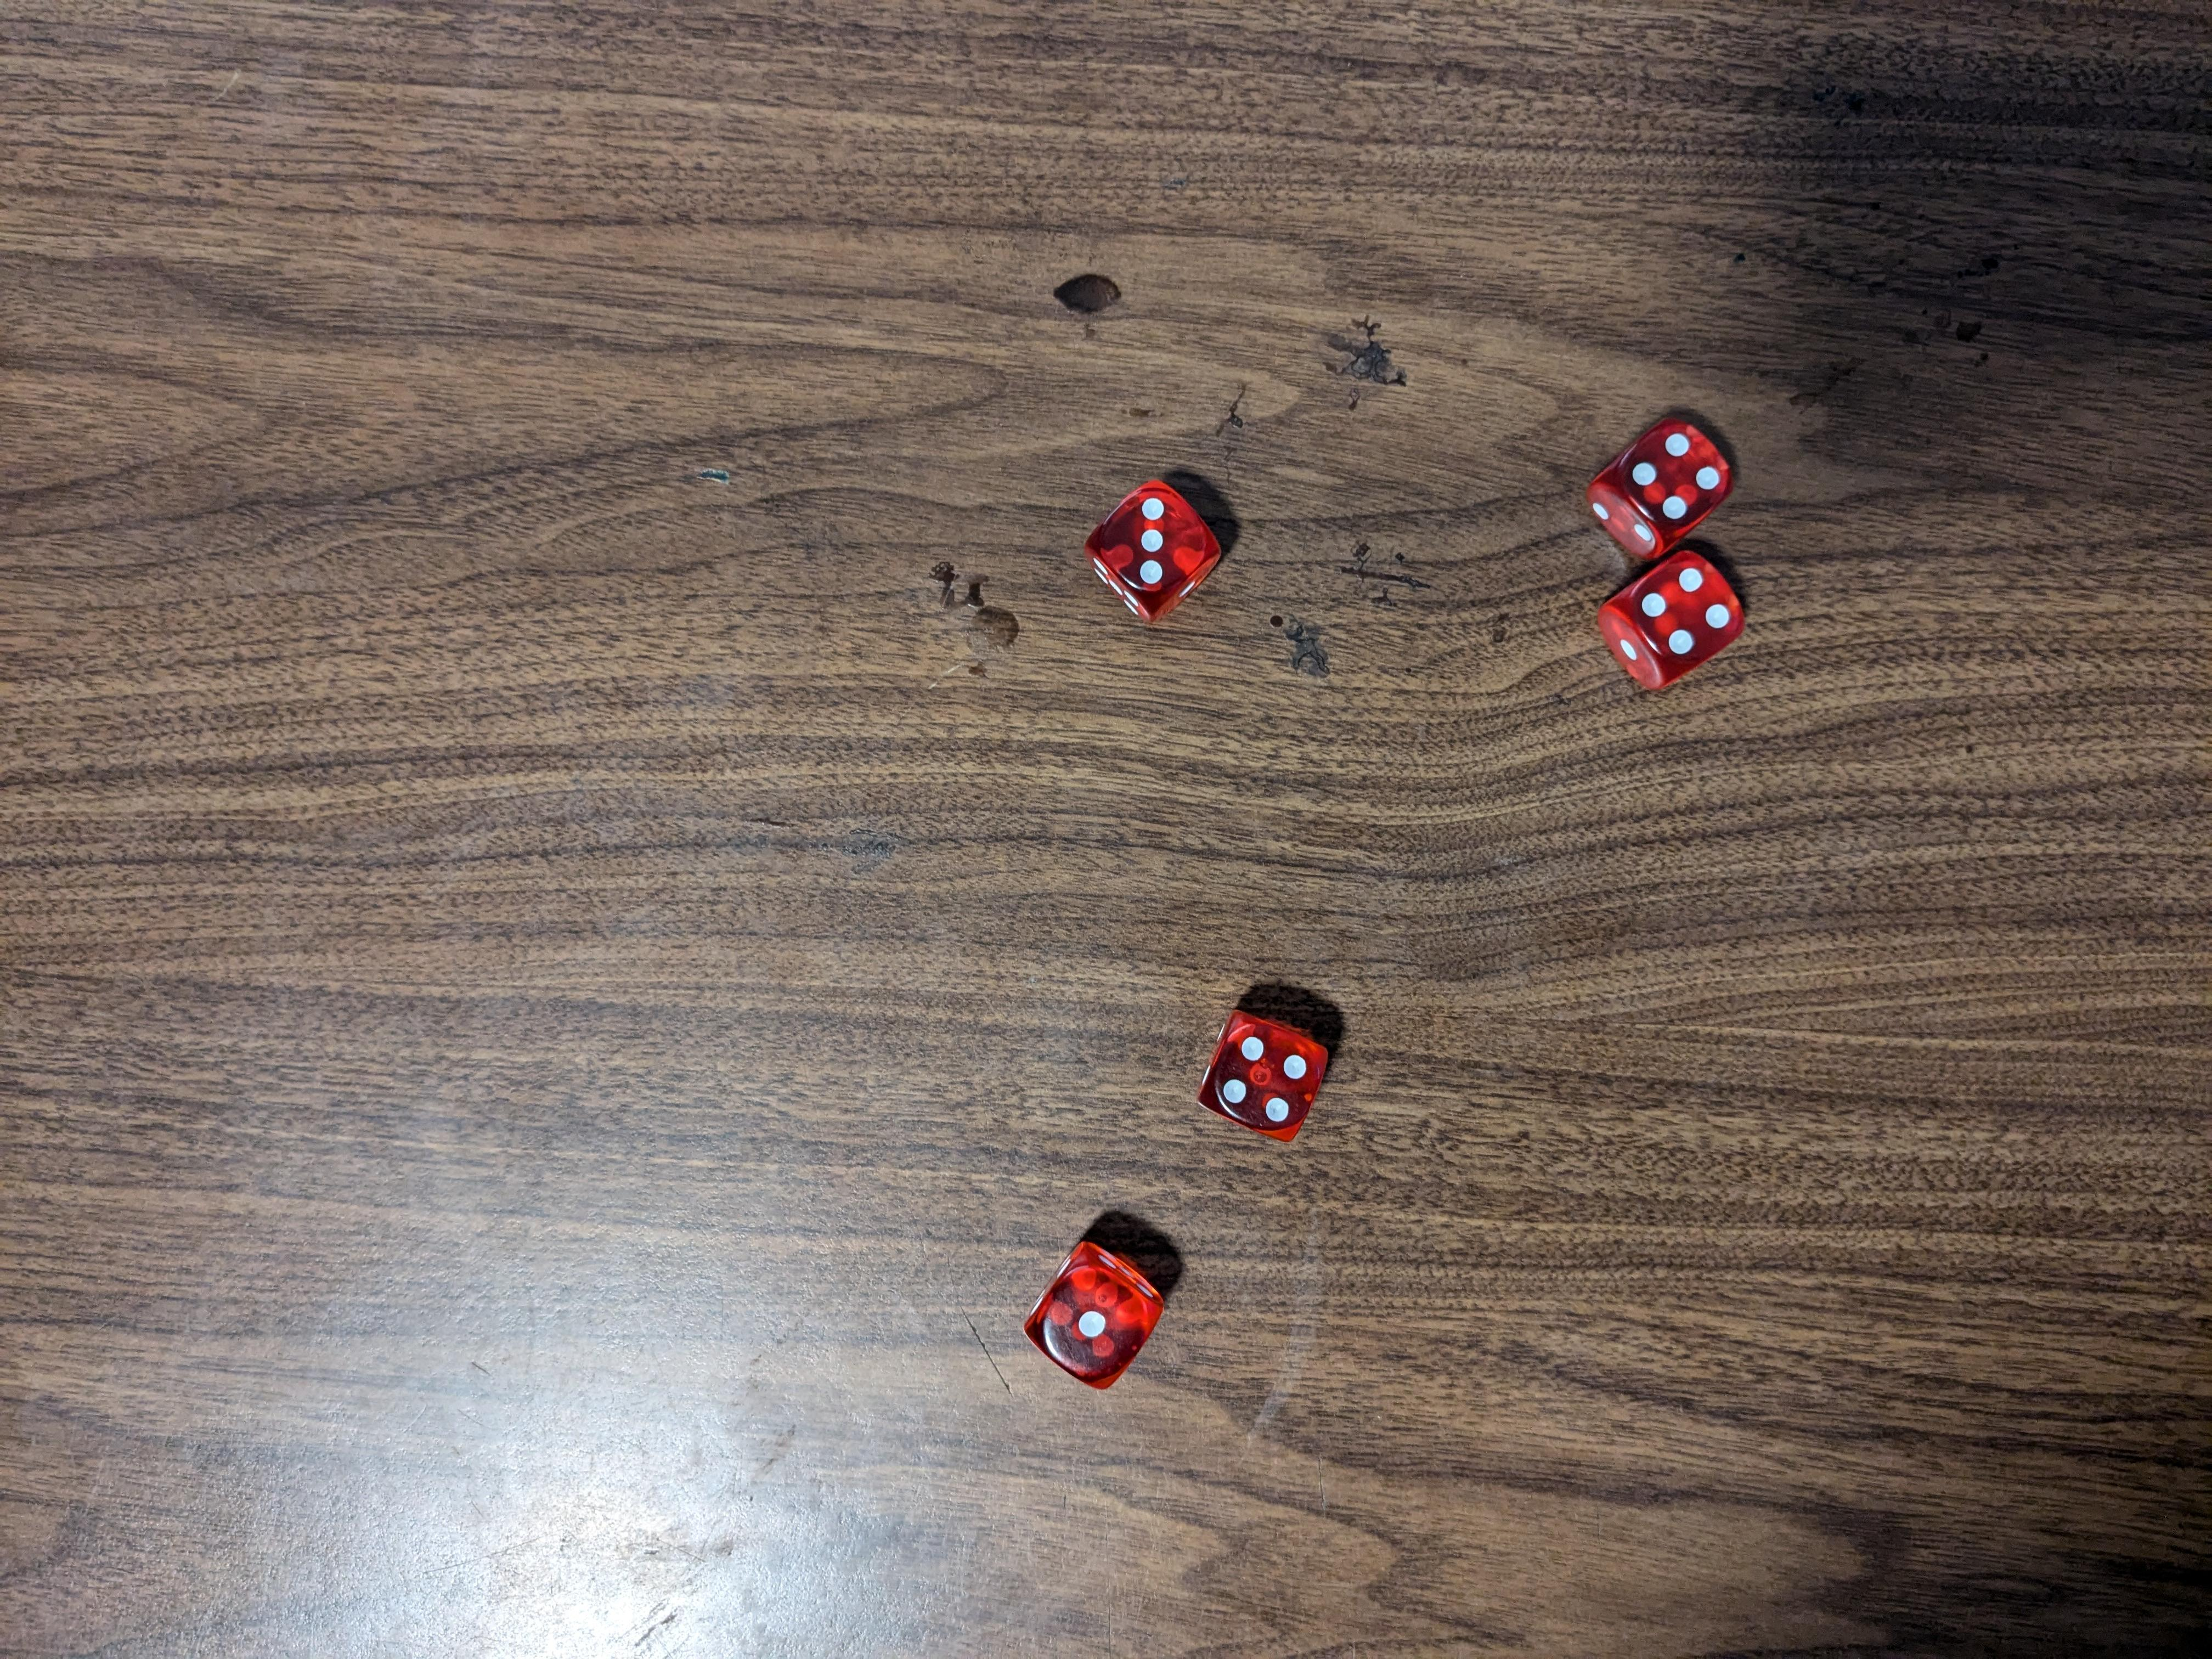four: (1597, 547, 1750, 697), (1580, 416, 1738, 554), (1200, 1011, 1334, 1148)
one: (1024, 1243, 1163, 1385)
three: (1083, 481, 1231, 627)
